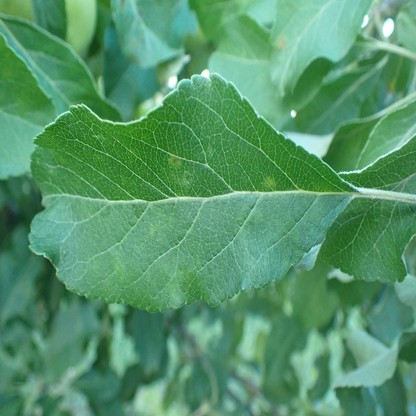scab: (108, 247, 124, 276), (152, 213, 173, 231), (169, 154, 182, 168), (261, 176, 273, 187)
